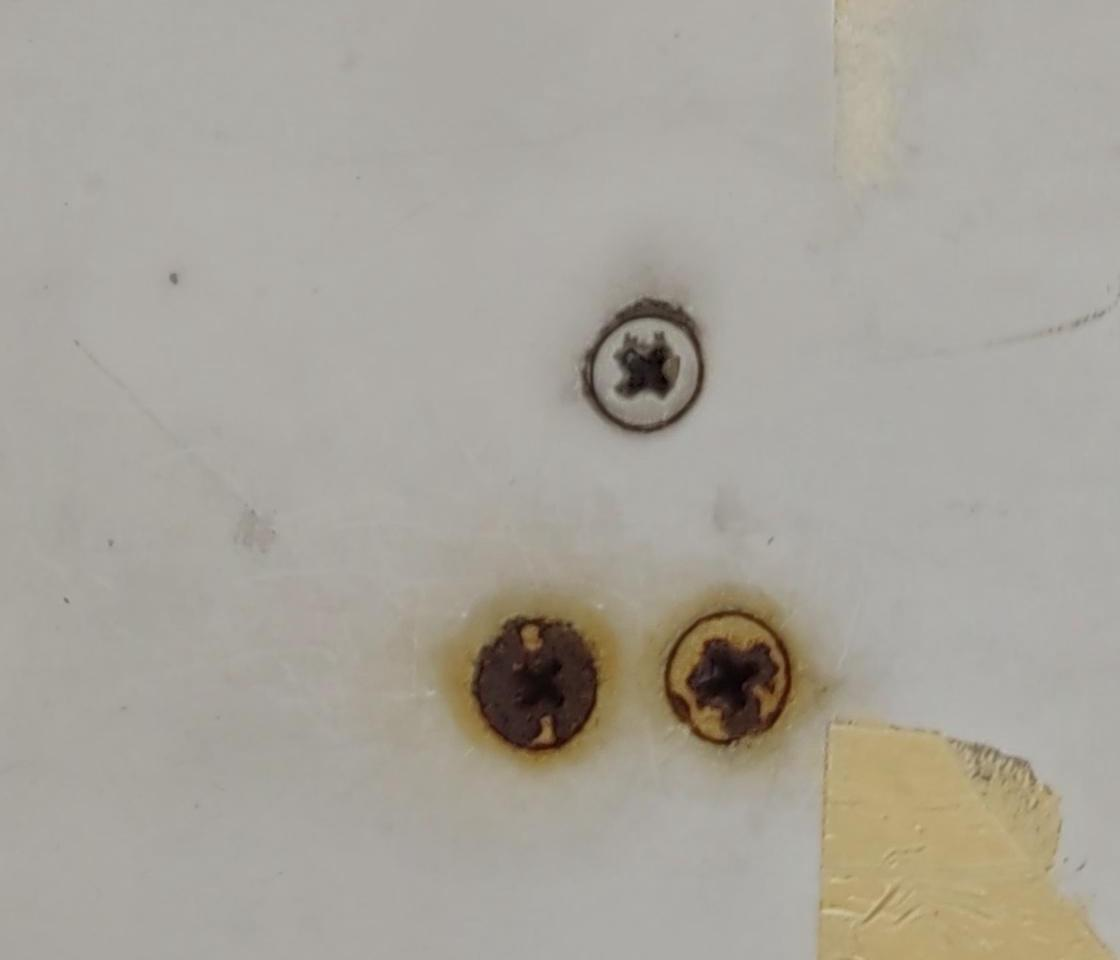rivet_damage: (464, 606, 609, 771), (653, 603, 799, 755), (569, 297, 716, 435)
